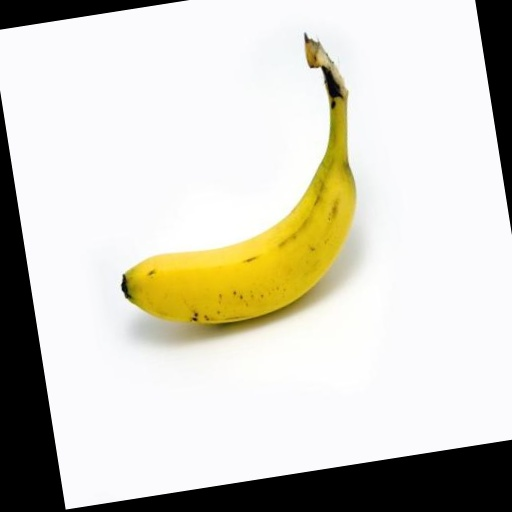fruit: (122, 35, 356, 323)
